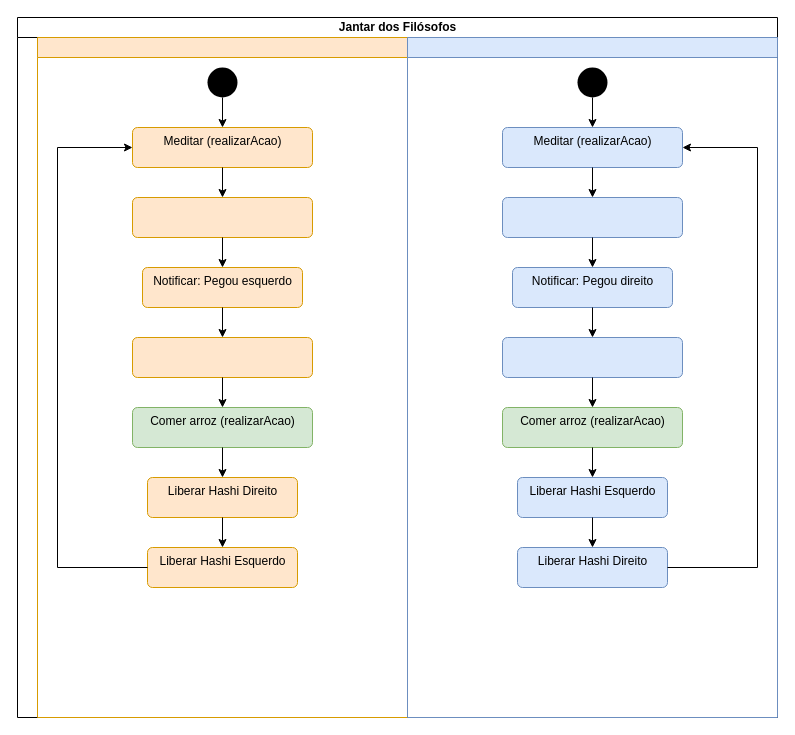
Image size: 795x735. Some labels were removed from this diagram. The box of each missing label's shape, as (x1, y1, x2, y2) in pixels:
Filósofo Padrão (id < n - 1): (36, 36, 408, 718)
Filósofo Último (id == n - 1): (406, 36, 778, 718)
Travar Hashi Direito (synchronized(hachiDireito)): (132, 336, 312, 378)
Travar Hashi Direito primeiro (synchronized(hachiDireito)): (502, 196, 682, 238)
Travar Hashi Esquerdo (synchronized(hachiEsquerdo)): (132, 196, 312, 238)
Travar Hashi Esquerdo segundo (synchronized(hachiEsquerdo)): (502, 336, 682, 378)
